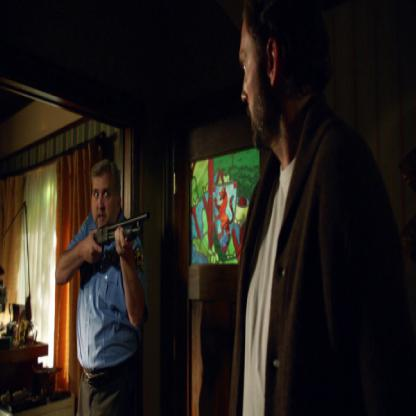Guns: (76, 210, 150, 284)
